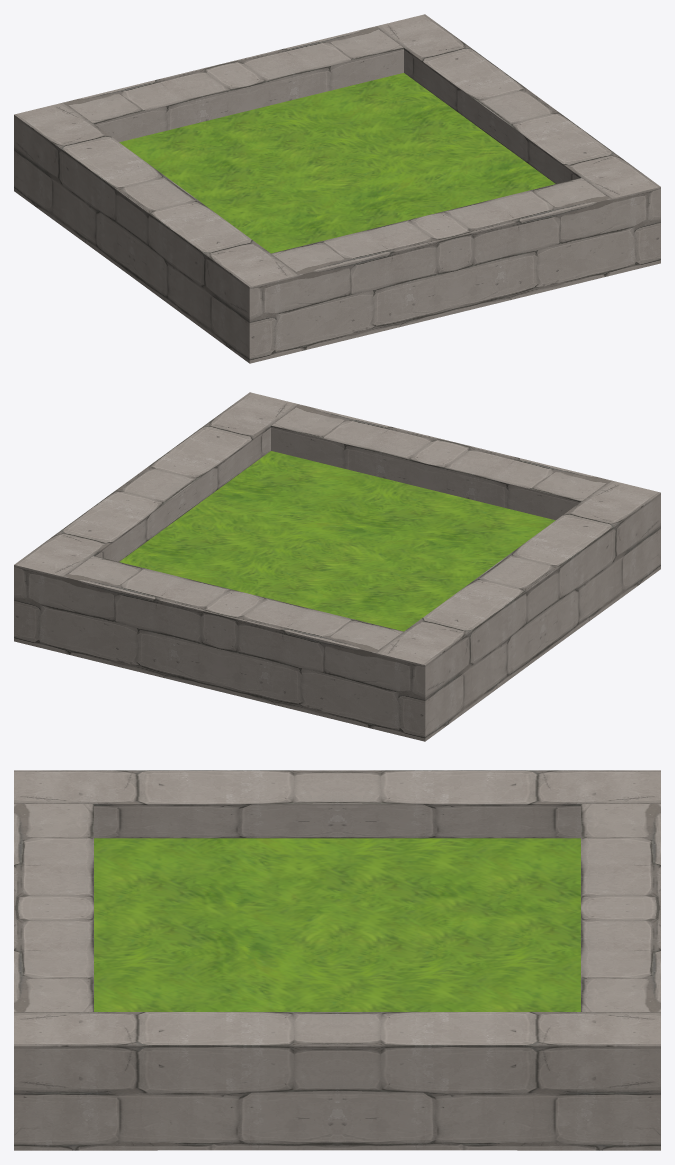
Rendered from Plaza_D.fbx.
The picture shows the model from 3 angles, top to bottom: view 1: azimuth 30°, elevation 25°; view 2: azimuth 150°, elevation 25°; view 3: azimuth 270°, elevation 25°; orthographic projection. The views are drawn at different scales.
Parts seen in each view (by area): view 1: Plaza_D; view 2: Plaza_D; view 3: Plaza_D.
Boxes of the visible parts, x1,y1,x2,y2 form: Plaza_D: [14, 14, 660, 363]; Plaza_D: [14, 392, 660, 741]; Plaza_D: [14, 770, 660, 1150].
Size of the model in its own units: 302 by 53.79 by 300.
Materials: 2 (2 with a texture image).
